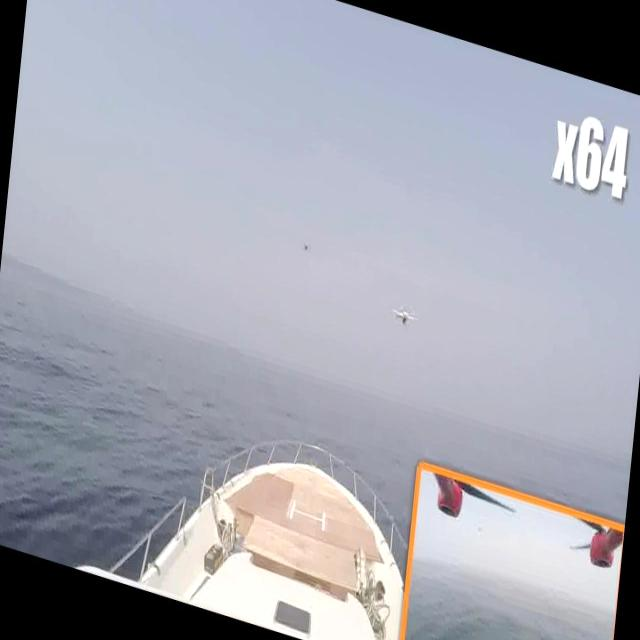drone: (391, 298, 423, 332)
